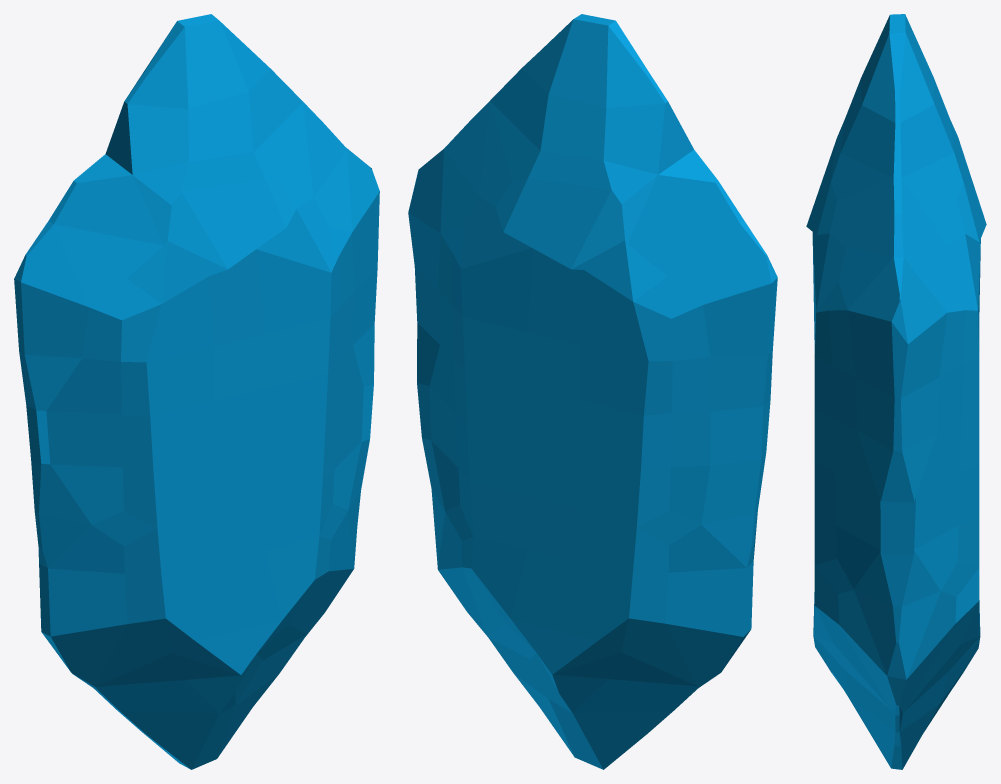
Rendered from crystal_2.glb.
The picture shows the model from 3 angles, left to right: view 1: azimuth 30°, elevation 25°; view 2: azimuth 150°, elevation 25°; view 3: azimuth 270°, elevation 25°; orthographic projection.
Parts seen in each view (by area): view 1: crystal_2; view 2: crystal_2; view 3: crystal_2.
Part boxes in pixels (box(x1,y1,x2,y2)): crystal_2: box(14, 14, 379, 769); crystal_2: box(408, 14, 777, 769); crystal_2: box(806, 14, 986, 769).
Bounding box in the file's own units: 0.278 × 0.5464 × 0.1204.
